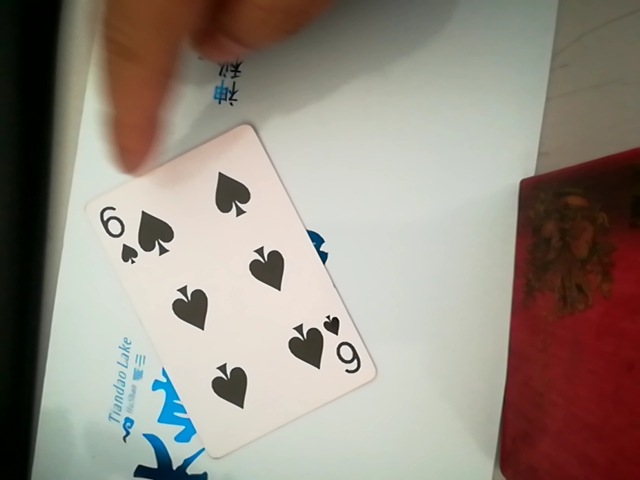ht 6: (82, 121, 372, 467)
